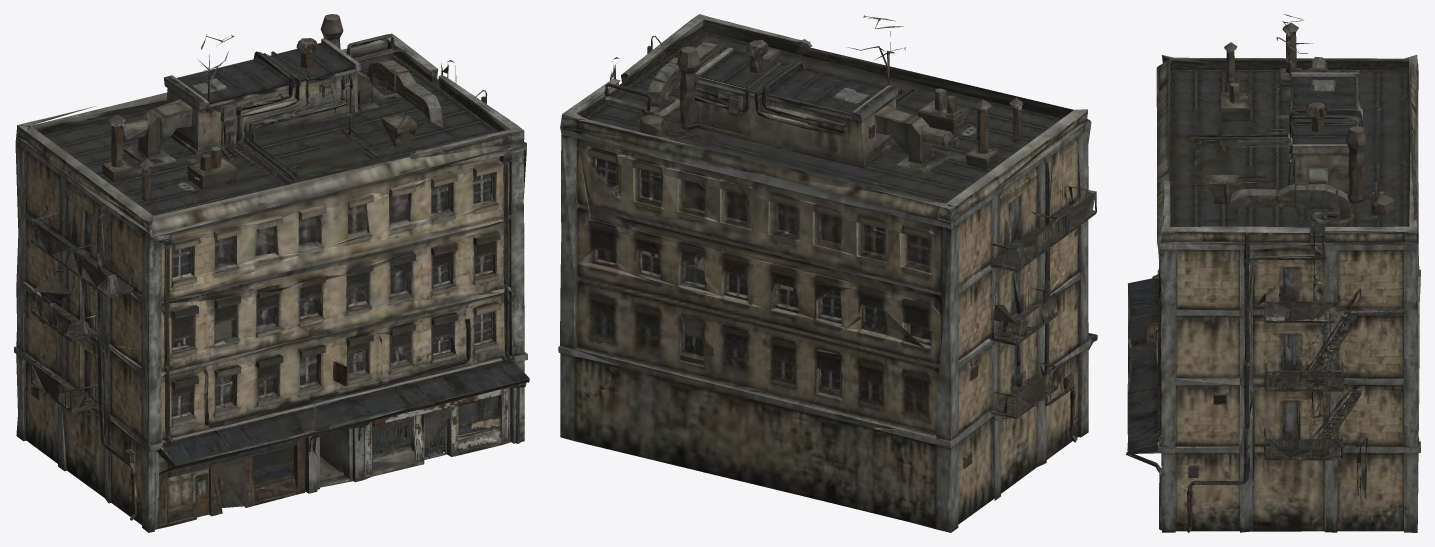
Rendered from coronetblock.glb.
3 views of the same model, side by side, from view 1: azimuth 30°, elevation 25°; view 2: azimuth 150°, elevation 25°; view 3: azimuth 270°, elevation 25° (orthographic). The views are drawn at different scales.
Parts seen in each view (by area): view 1: coronetblock-centred; view 2: coronetblock-centred; view 3: coronetblock-centred.
Part boxes in pixels (x1=…): coronetblock-centred: x1=14, y1=14, x2=529, y2=532; coronetblock-centred: x1=558, y1=14, x2=1097, y2=532; coronetblock-centred: x1=1126, y1=14, x2=1420, y2=532.
Size of the model in its own units: 21.58 by 20 by 13.4.
1 material, 1 textured.
